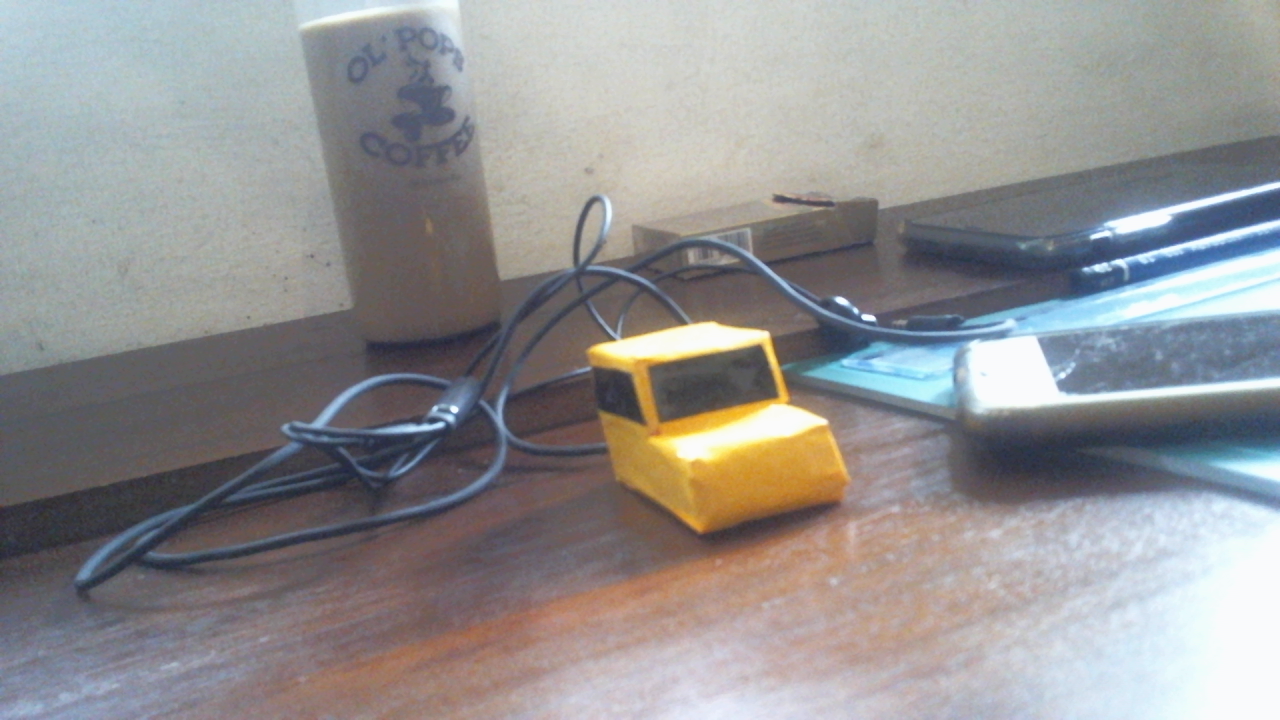Kijang Kapsul: (556, 311, 892, 573)
